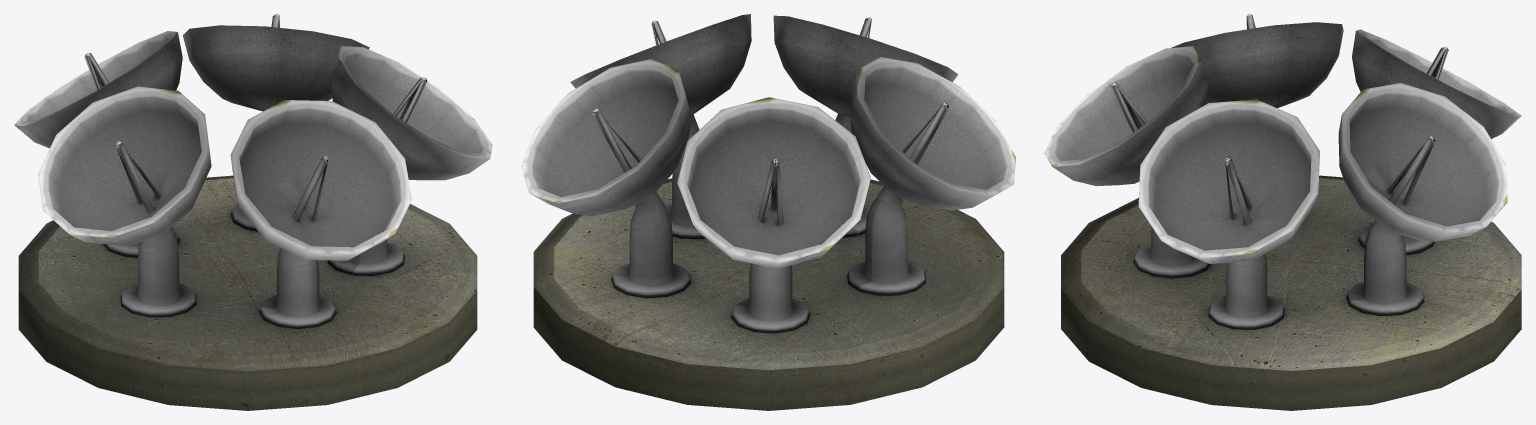
Rendered from area51_tower_satelliteRing_d0.fbx.
3 renders of one model, left to right at view 1: azimuth 30°, elevation 25°; view 2: azimuth 150°, elevation 25°; view 3: azimuth 270°, elevation 25°, orthographic. The views are drawn at different scales.
Parts seen in each view (by area): view 1: polySurface4, polySurface15, polySurface13, polySurface17, polySurface5, polySurface11, polySurface12, polySurface14, polySurface16; view 2: polySurface4, polySurface11, polySurface5, polySurface13, polySurface15, polySurface17, polySurface12, polySurface10, polySurface16, polySurface14; view 3: polySurface4, polySurface5, polySurface17, polySurface15, polySurface13, polySurface11, polySurface16, polySurface14, polySurface10.
Part boxes in pixels (bbox=[...]): polySurface4: bbox=[18, 175, 477, 410]; polySurface15: bbox=[230, 100, 411, 260]; polySurface13: bbox=[38, 86, 211, 245]; polySurface17: bbox=[331, 46, 492, 180]; polySurface5: bbox=[182, 14, 369, 231]; polySurface11: bbox=[14, 31, 182, 148]; polySurface12: bbox=[120, 227, 196, 317]; polySurface14: bbox=[259, 248, 336, 328]; polySurface16: bbox=[327, 239, 404, 275]; polySurface4: bbox=[533, 178, 1004, 410]; polySurface11: bbox=[677, 97, 870, 268]; polySurface5: bbox=[521, 59, 691, 298]; polySurface13: bbox=[850, 57, 1015, 210]; polySurface15: bbox=[773, 15, 958, 116]; polySurface17: bbox=[570, 14, 751, 115]; polySurface12: bbox=[847, 186, 926, 295]; polySurface10: bbox=[731, 263, 810, 333]; polySurface16: bbox=[665, 114, 705, 239]; polySurface14: bbox=[835, 113, 870, 237]; polySurface4: bbox=[1061, 175, 1521, 410]; polySurface5: bbox=[1338, 83, 1507, 315]; polySurface17: bbox=[1138, 99, 1319, 263]; polySurface15: bbox=[1044, 46, 1207, 186]; polySurface13: bbox=[1171, 14, 1343, 108]; polySurface11: bbox=[1352, 29, 1521, 139]; polySurface16: bbox=[1208, 253, 1284, 329]; polySurface14: bbox=[1133, 226, 1210, 278]; polySurface10: bbox=[1358, 223, 1434, 255].
Size of the model in its own units: 7.39 by 4.19 by 7.3.
